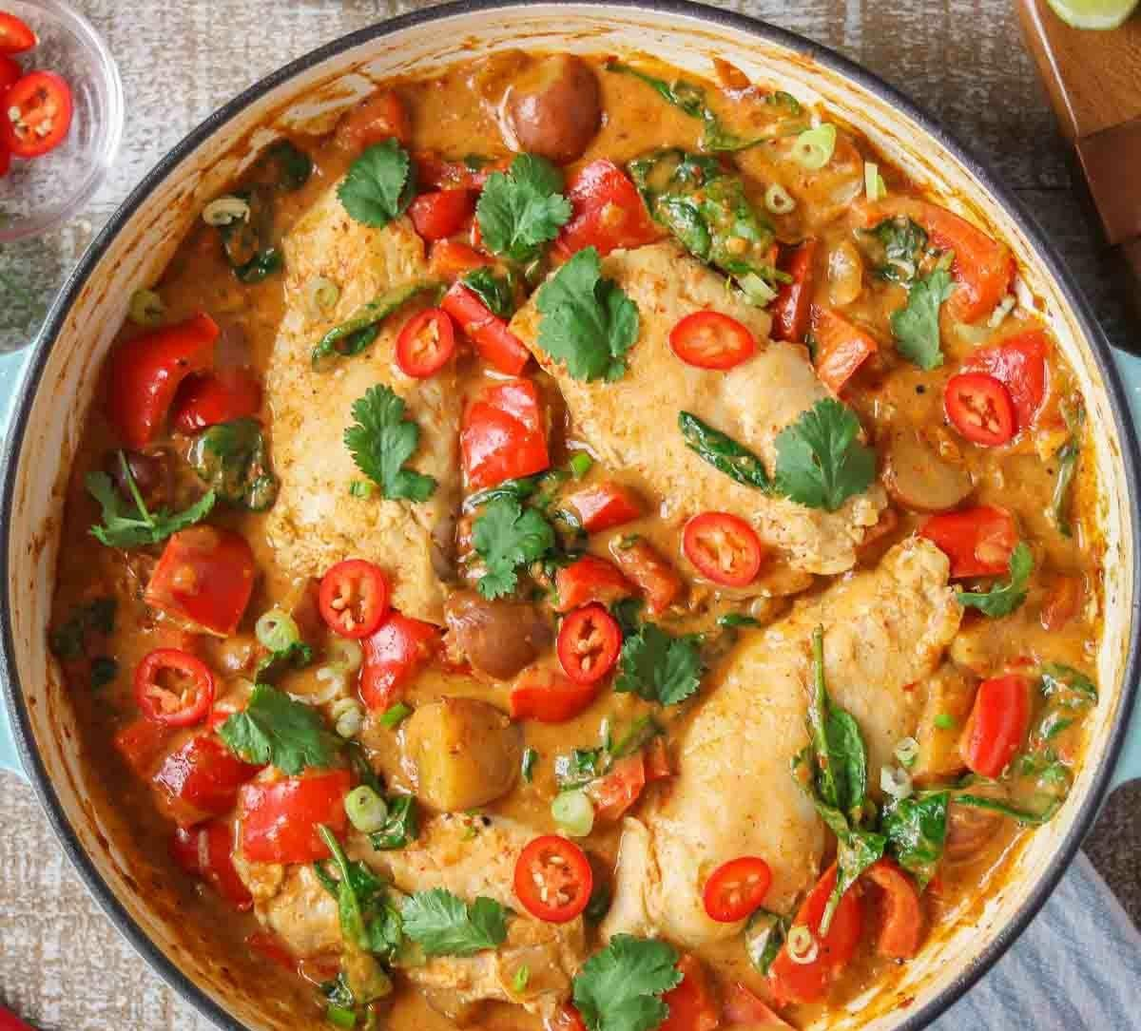FishCurry: (49, 55, 1100, 1031)
